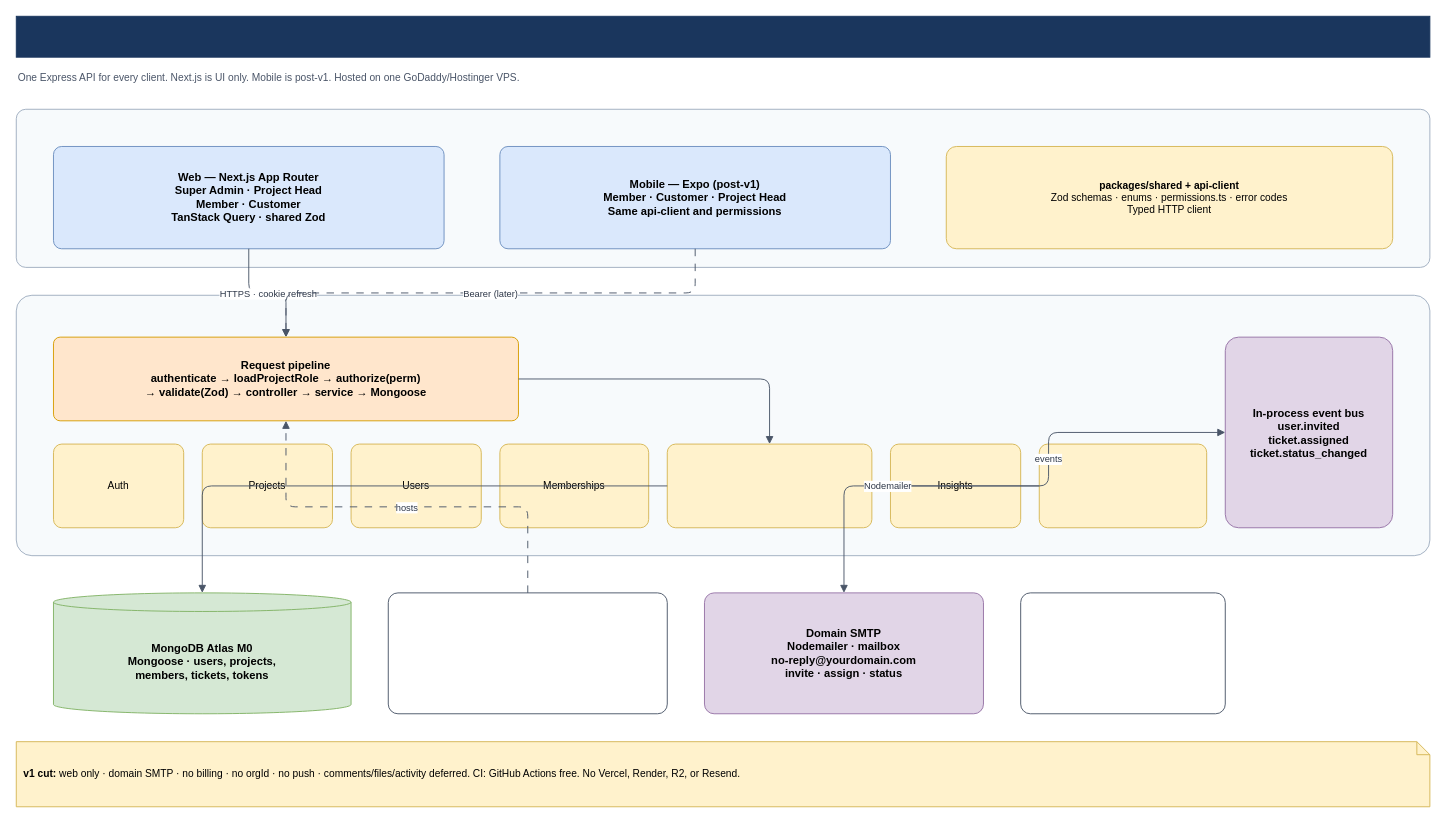
Some shapes in this 1446 by 823 pixel diagram are drawn without their labels. Here are the shapes that lost their labels. From the top down, the box of each, then its label:
(15, 15, 1430, 57): Ticketing platform — system architecture (v1.2)
(15, 108, 1430, 267): Clients
(15, 294, 1430, 556): Express modular monolith · /api/v1 · HTTPS · REST · JWT
(666, 443, 872, 528): Tickets create · assign · status
(1038, 443, 1207, 528): Notifications in-process SMTP
(387, 592, 667, 714): One VPS Hostinger KVM or GoDaddy Next + Express + Caddy TLS
(1020, 592, 1225, 714): pino stdout x-request-id no Sentry in v1
